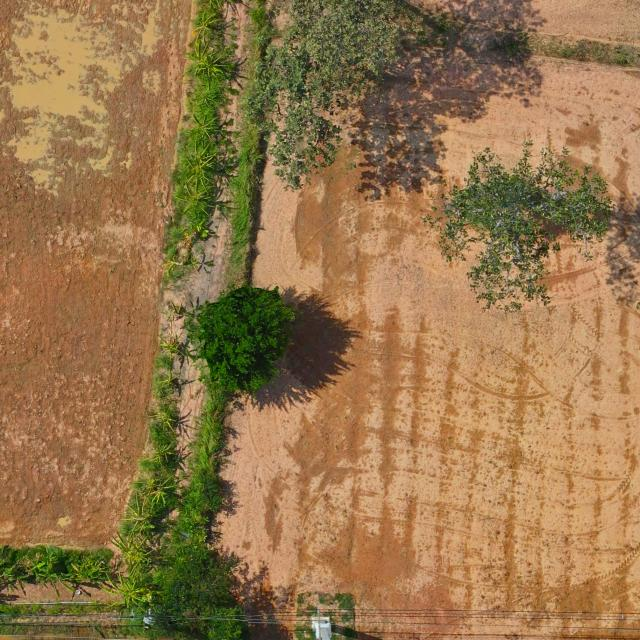Tree: (419, 136, 620, 316), (255, 0, 419, 194), (190, 281, 297, 394), (152, 541, 258, 640), (182, 41, 230, 84), (185, 138, 213, 196), (184, 113, 224, 144), (190, 10, 221, 42), (148, 401, 175, 433), (194, 0, 232, 9)
